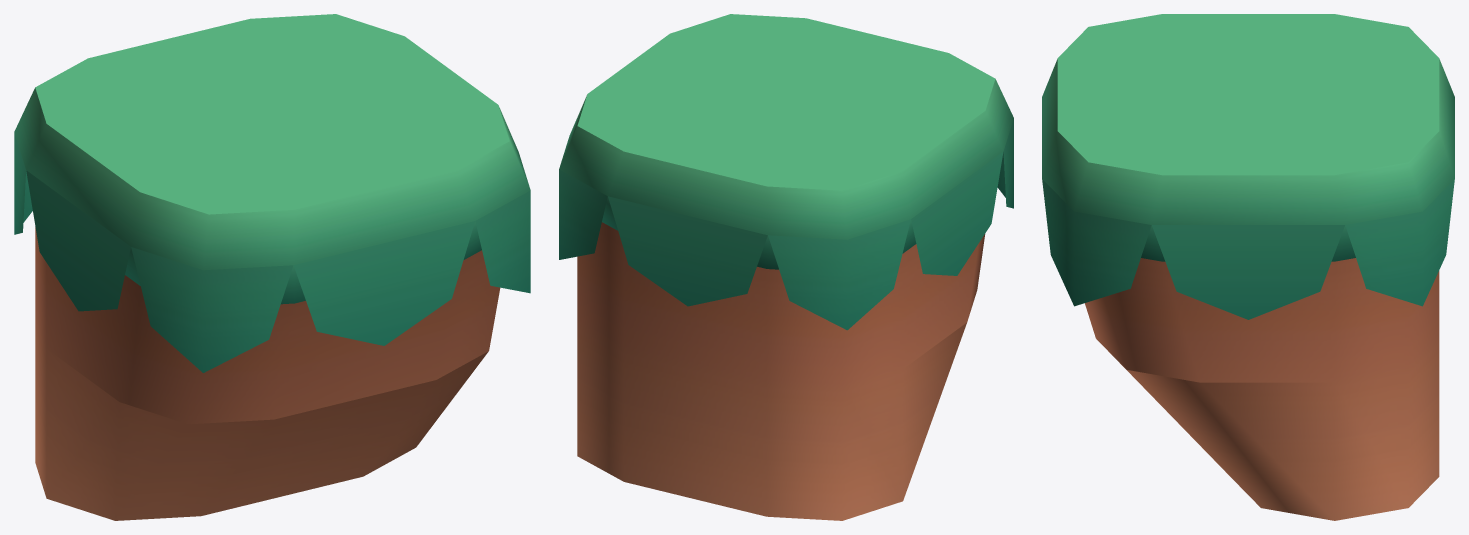
The model's file is kenney-platformer-block-grass-overhang-edge.glb.
The picture shows the model from 3 angles, left to right: view 1: azimuth 30°, elevation 25°; view 2: azimuth 150°, elevation 25°; view 3: azimuth 270°, elevation 25°; orthographic projection. The views are drawn at different scales.
Visible parts, largest first — view 1: block-grass-overhang-edge; view 2: block-grass-overhang-edge; view 3: block-grass-overhang-edge.
Part boxes in pixels (x1=…): block-grass-overhang-edge: x1=14, y1=14, x2=530, y2=520; block-grass-overhang-edge: x1=559, y1=14, x2=1013, y2=520; block-grass-overhang-edge: x1=1042, y1=14, x2=1454, y2=520.
Size of the model in its own units: 1.08 by 1 by 1.08.
Materials: 1 (1 with a texture image).
